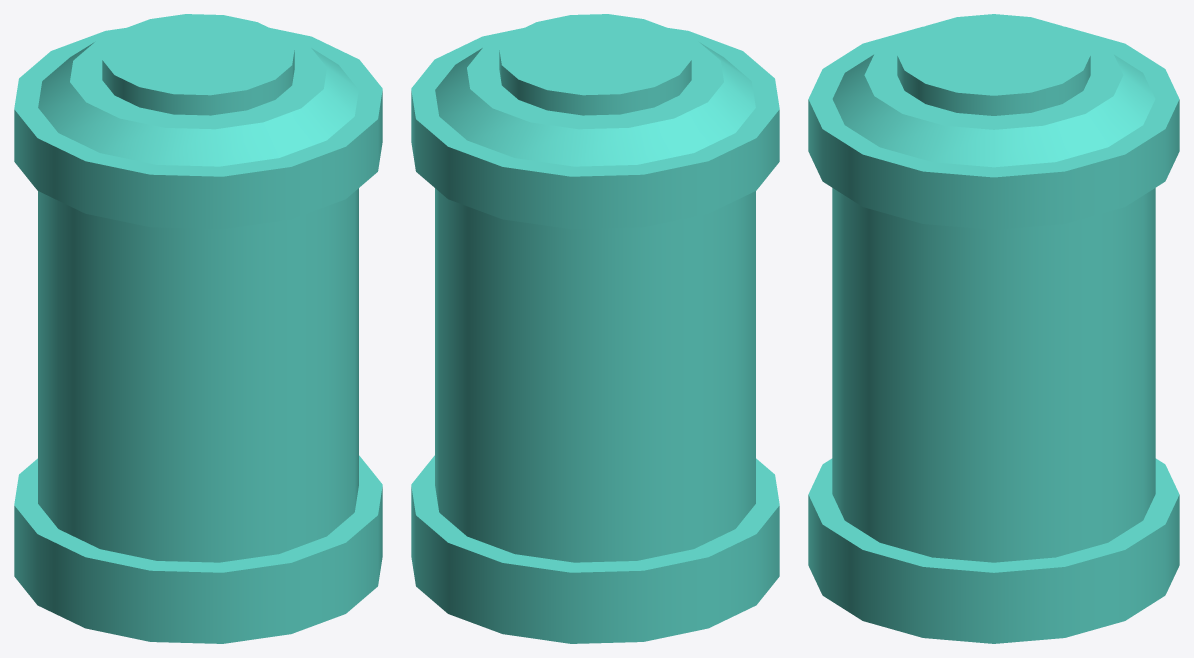
The model's file is Tank.fbx.
The picture shows the model from 3 angles, left to right: view 1: azimuth 30°, elevation 25°; view 2: azimuth 150°, elevation 25°; view 3: azimuth 270°, elevation 25°; orthographic projection.
Visible parts, largest first — view 1: Tank; view 2: Tank; view 3: Tank.
Boxes of the visible parts, x1=… form: Tank: x1=14, y1=14, x2=382, y2=643; Tank: x1=411, y1=14, x2=779, y2=643; Tank: x1=808, y1=14, x2=1179, y2=643.
Bounding box in the file's own units: 59.14 × 89.77 × 59.14.
